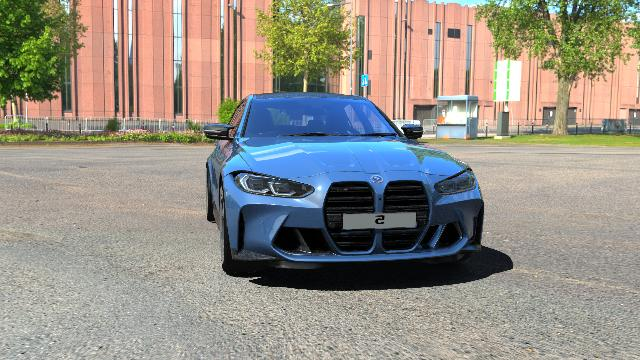License Plate: (340, 212, 416, 230)
